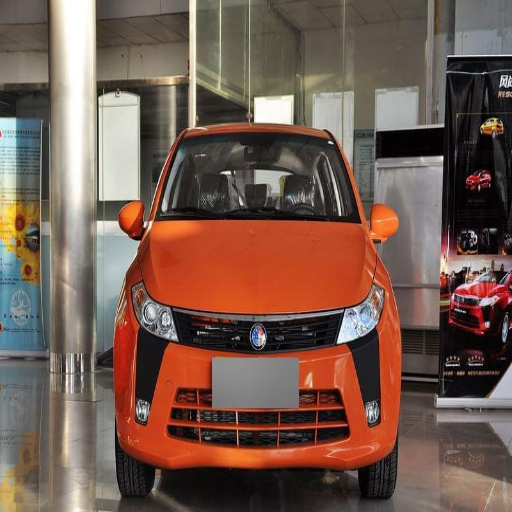front_bumper: (118, 307, 399, 468)
front_right_light: (137, 288, 179, 342)
hood: (142, 220, 372, 309)
